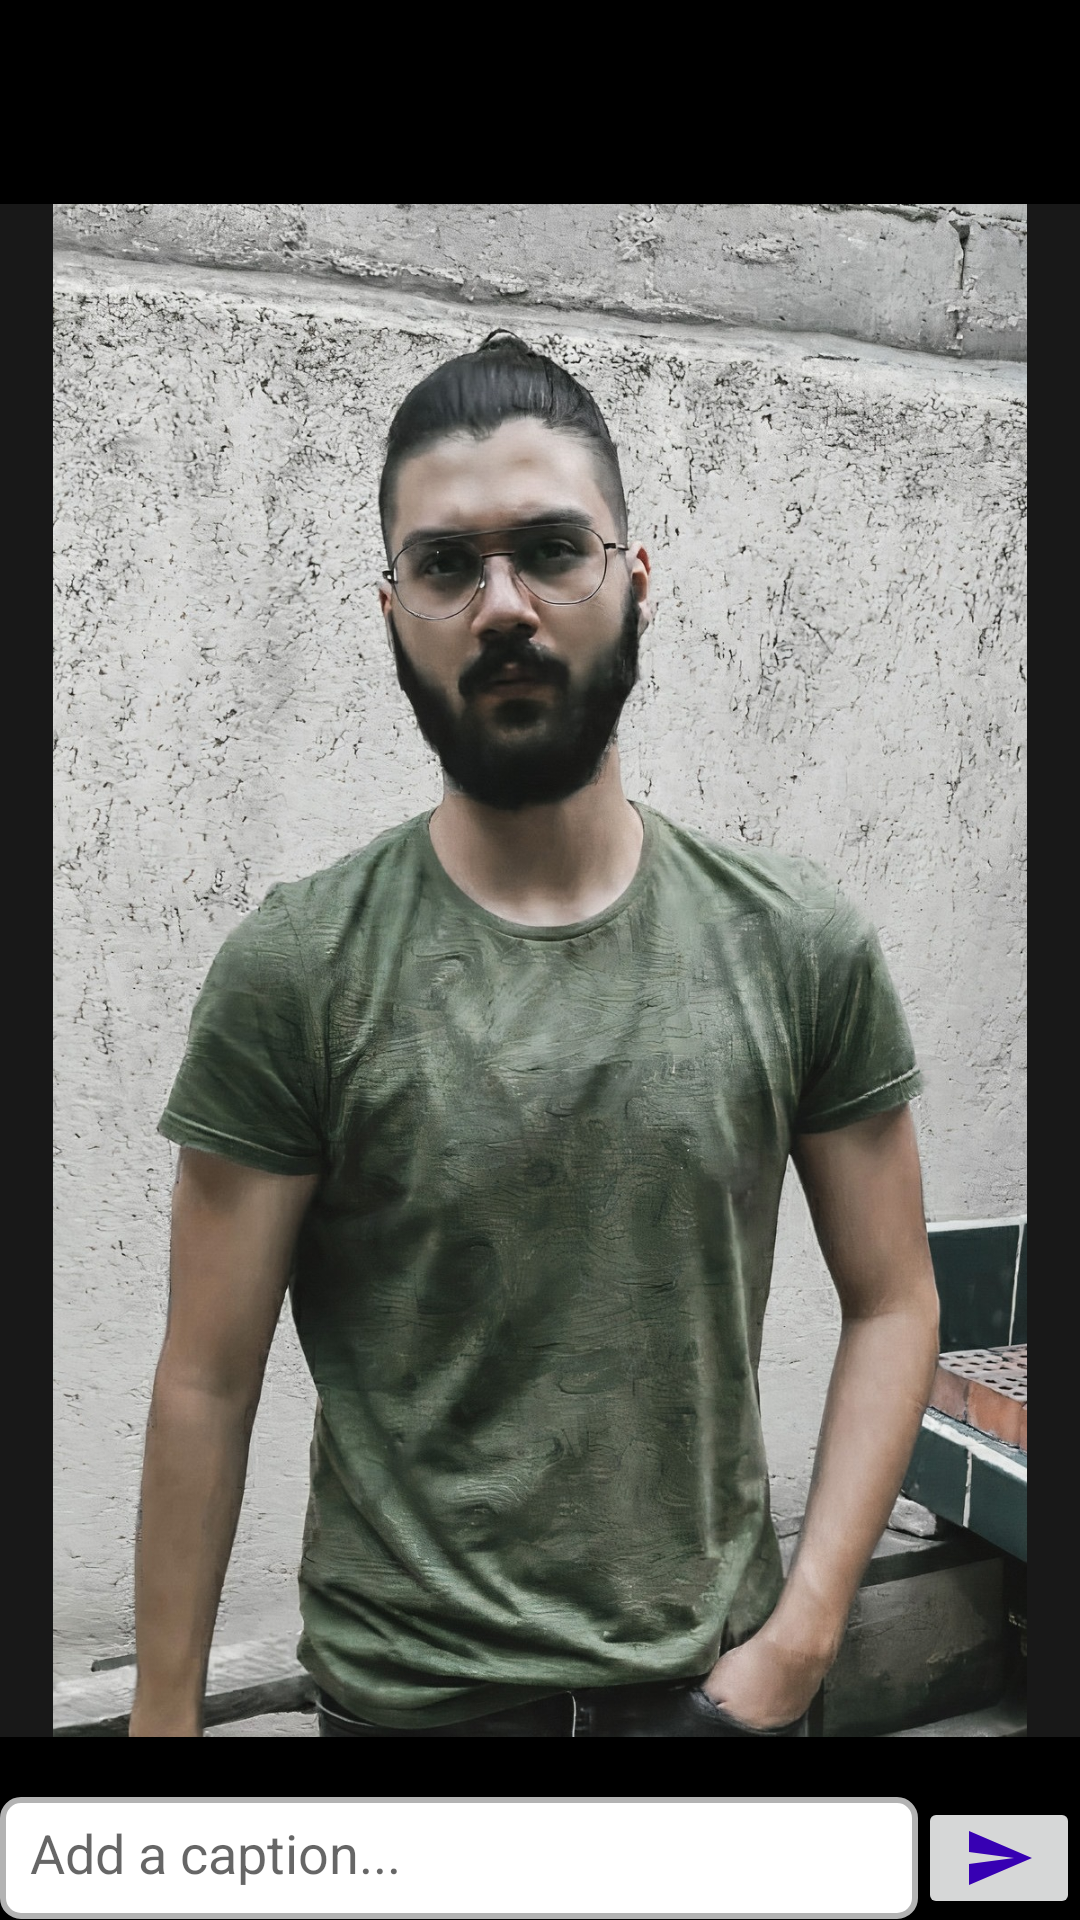

Icon click points for this 1080 x 1920 phone screenshot, format (x,y):
send chat: (999,1858)
